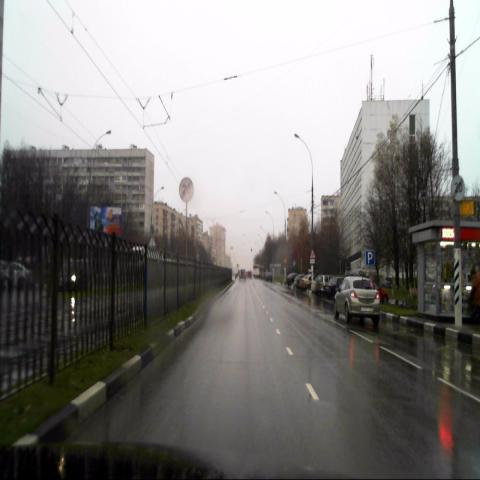3_25: (450, 174, 465, 200), (180, 177, 194, 202)
